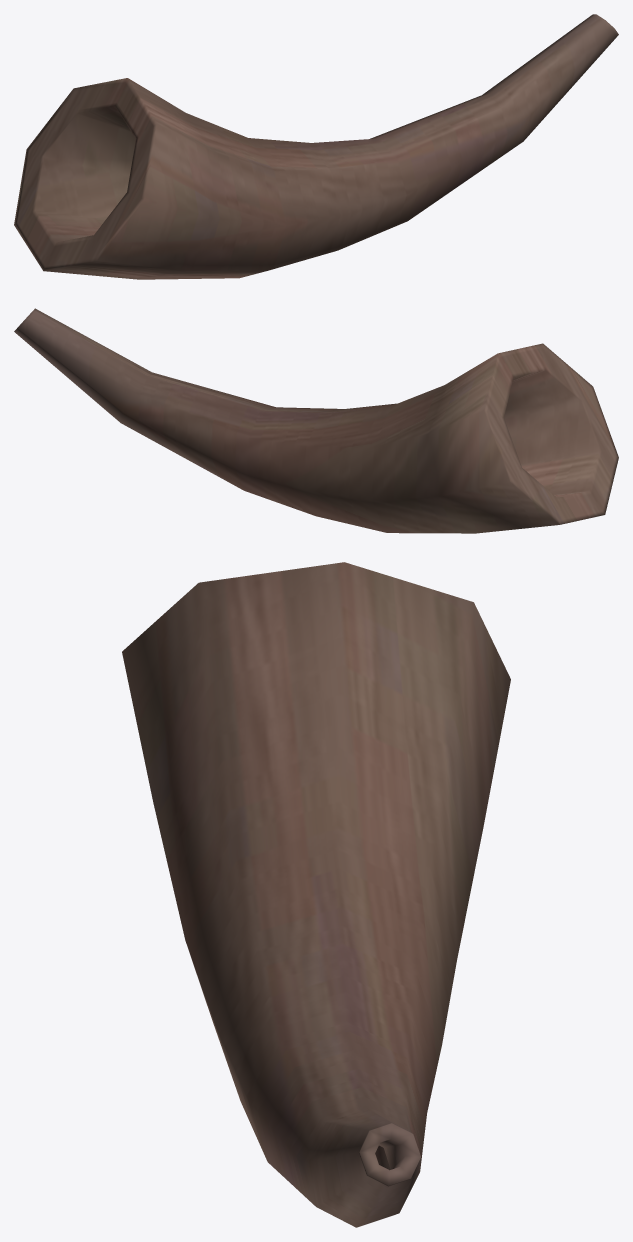
File: AF_M_Prop_11.FBX
The picture shows the model from 3 angles, top to bottom: view 1: azimuth 30°, elevation 25°; view 2: azimuth 150°, elevation 25°; view 3: azimuth 270°, elevation 25°; orthographic projection. The views are drawn at different scales.
Parts seen in each view (by area): view 1: AF_M_Prop_11; view 2: AF_M_Prop_11; view 3: AF_M_Prop_11.
Part boxes in pixels (x1,y1,x2,y2): AF_M_Prop_11: [14, 14, 618, 279]; AF_M_Prop_11: [14, 308, 618, 533]; AF_M_Prop_11: [122, 562, 510, 1227].
Size of the model in its own units: 491 by 170 by 147.
1 material, 1 textured.
